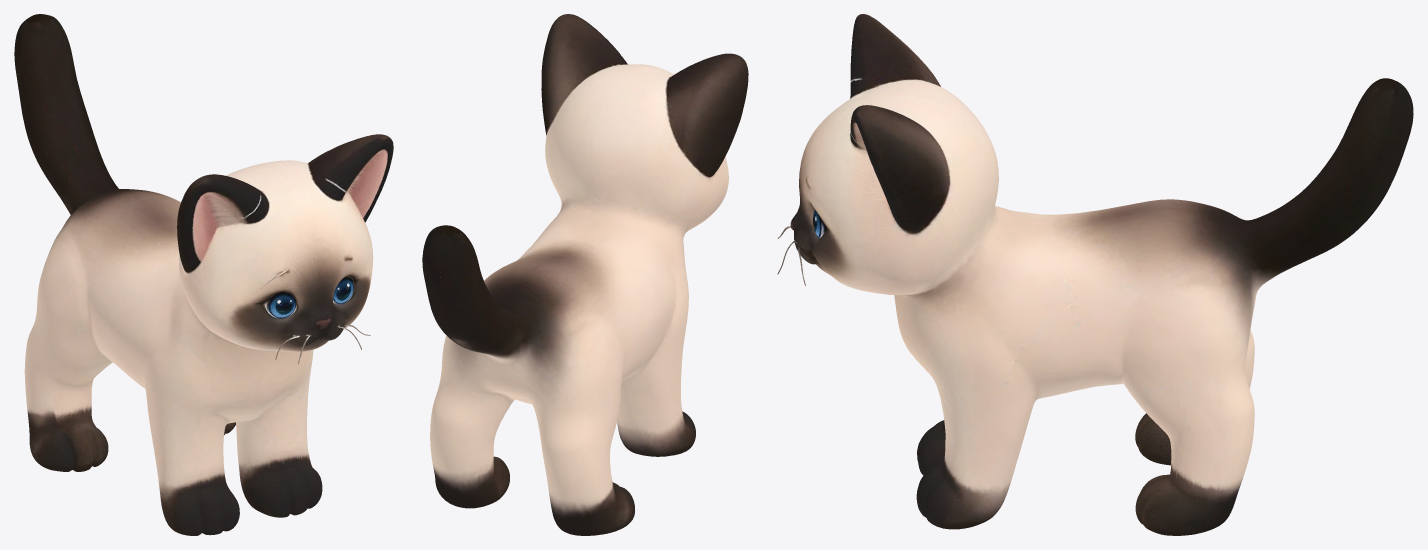
The model's file is meshy-balinese.glb.
3 views of the same model, side by side, from view 1: azimuth 30°, elevation 25°; view 2: azimuth 150°, elevation 25°; view 3: azimuth 270°, elevation 25° (orthographic). The views are drawn at different scales.
Visible parts, largest first — view 1: Mesh_0; view 2: Mesh_0; view 3: Mesh_0.
Part boxes in pixels (left/top/right/bottom): Mesh_0: left=14, top=14, right=393, bottom=535; Mesh_0: left=422, top=14, right=748, bottom=535; Mesh_0: left=777, top=14, right=1413, bottom=535.
Bounding box in the file's own units: 0.8539 × 1.43 × 1.9.
1 material, 1 textured.
